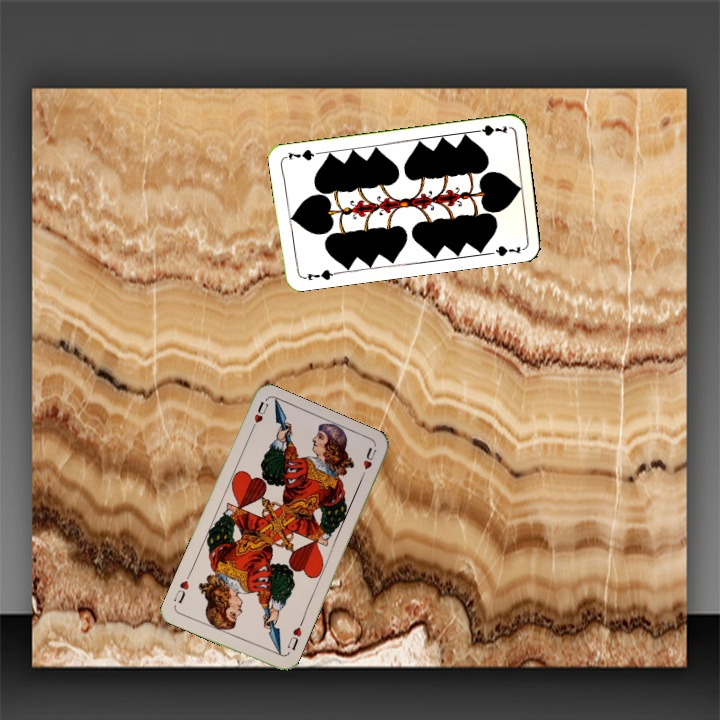G7: (298, 265, 339, 283), (469, 121, 510, 138)
HU: (246, 397, 271, 436), (283, 619, 305, 653)
